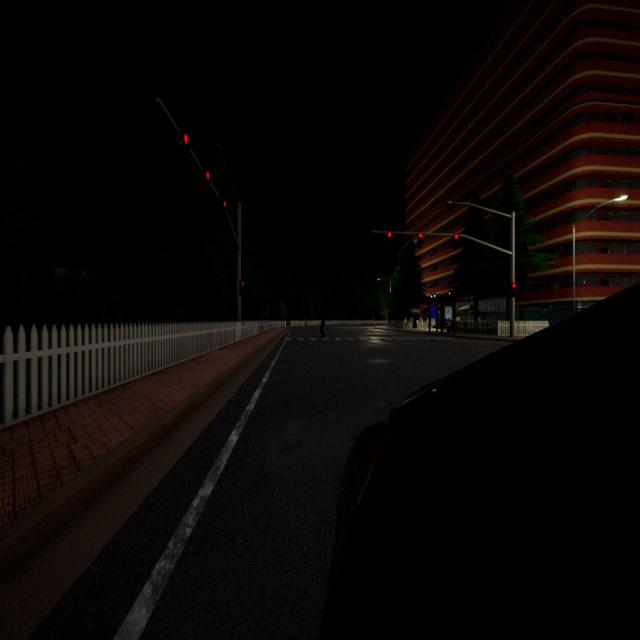Pedestrian: (318, 309, 326, 339)
Vehicle: (323, 278, 640, 640)
traffic_light: (183, 134, 189, 152), (204, 172, 210, 188), (510, 282, 516, 297), (454, 233, 459, 248), (239, 280, 244, 294), (418, 232, 423, 246), (387, 231, 392, 243), (222, 200, 226, 214)
